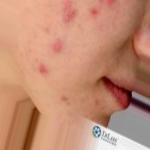Acne: (59, 0, 84, 27), (49, 37, 66, 56), (90, 2, 102, 21), (38, 60, 51, 75)
